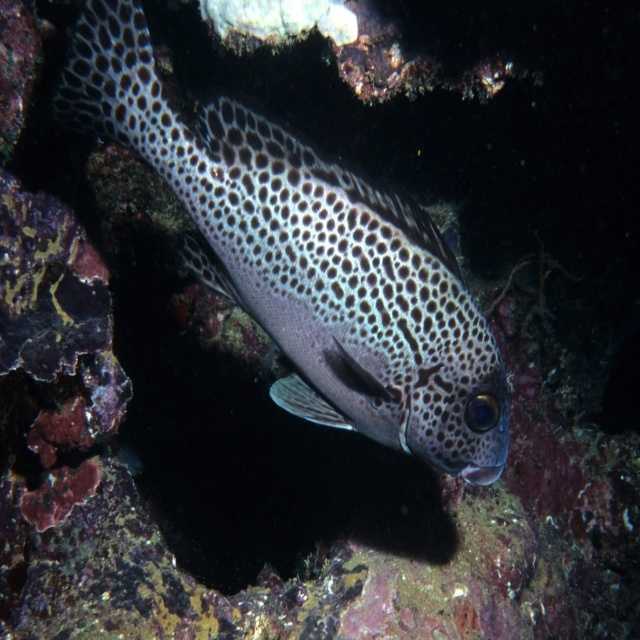Fish: (53, 0, 514, 488)
